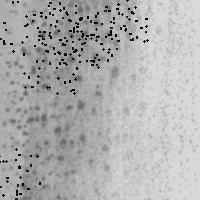pitted_surface: (6, 1, 129, 194), (160, 2, 196, 164), (56, 10, 116, 67), (36, 12, 96, 67), (23, 41, 78, 92), (0, 0, 50, 53), (95, 0, 152, 43), (0, 147, 39, 200), (22, 0, 76, 31)
